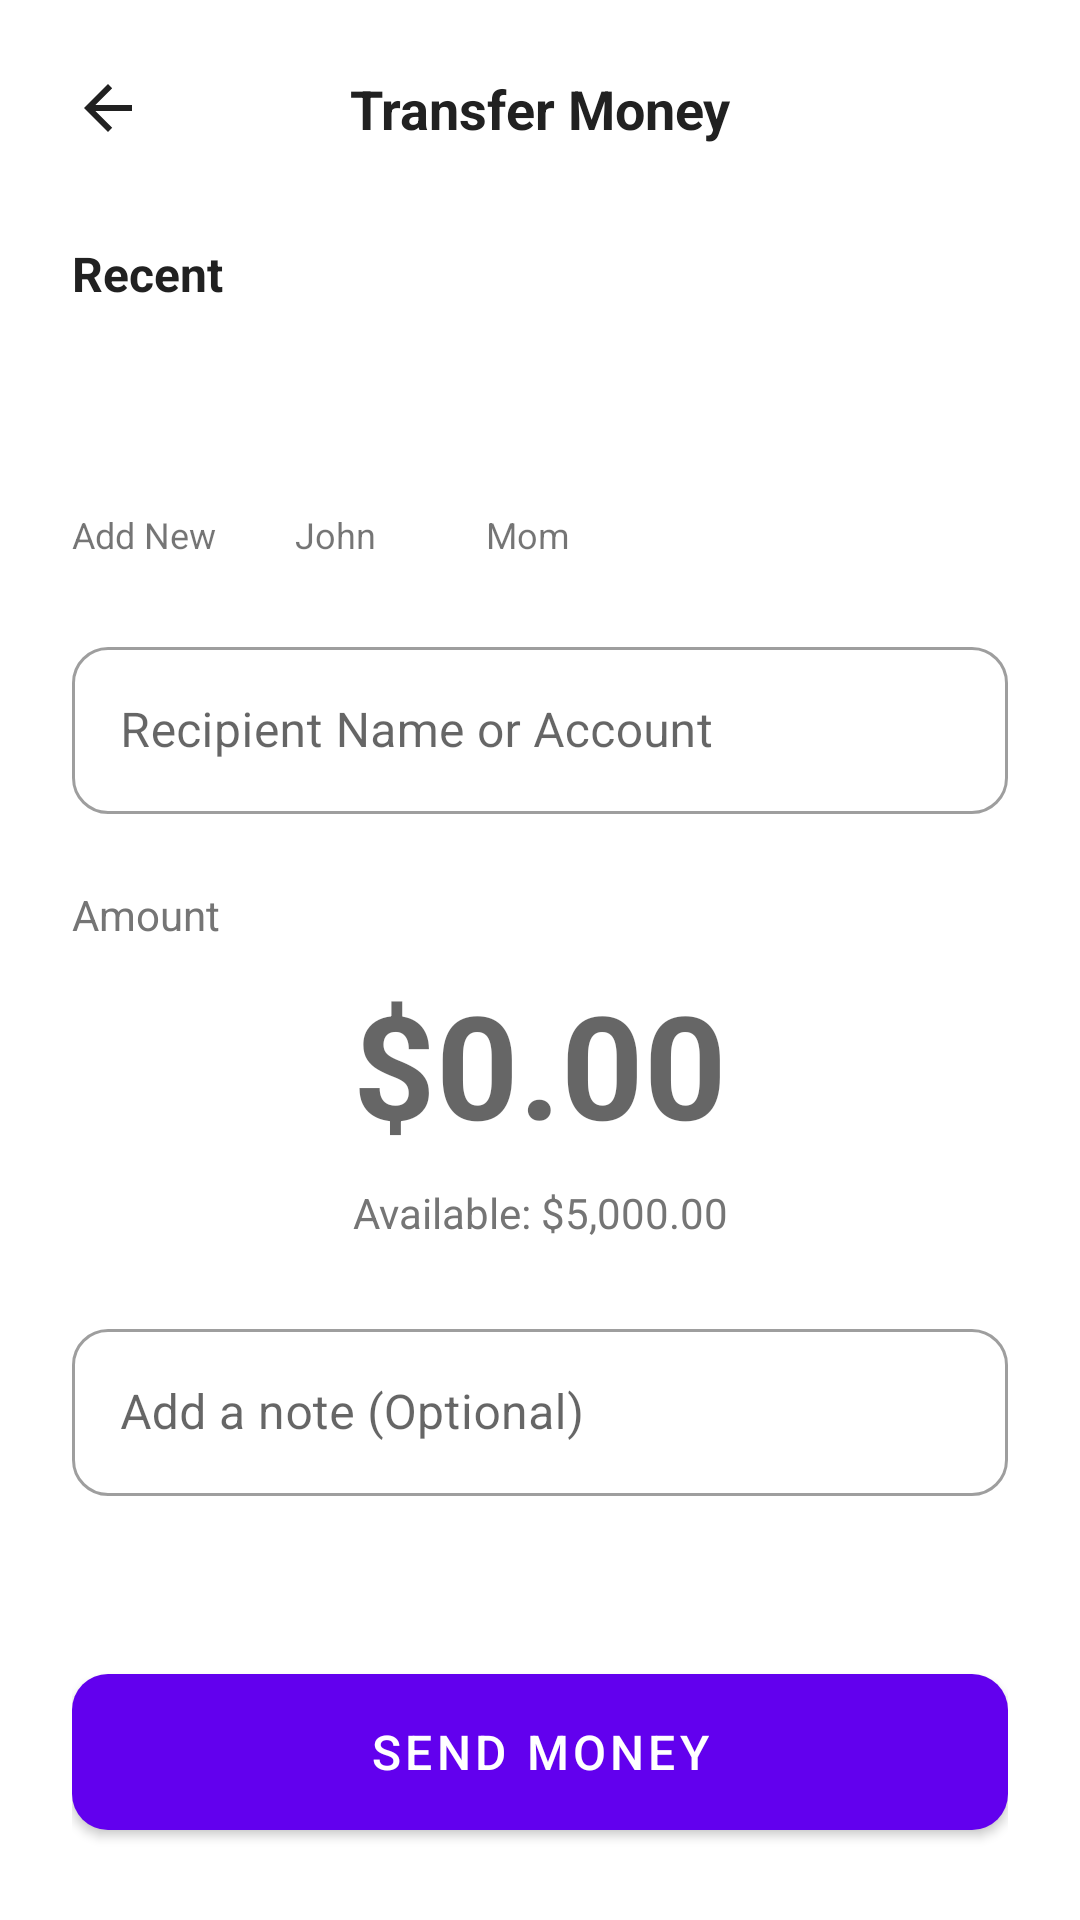

Icons on this 1080px x 1920px Android screen, each with the point to tap as [x,y]:
ab back: [108,108]
